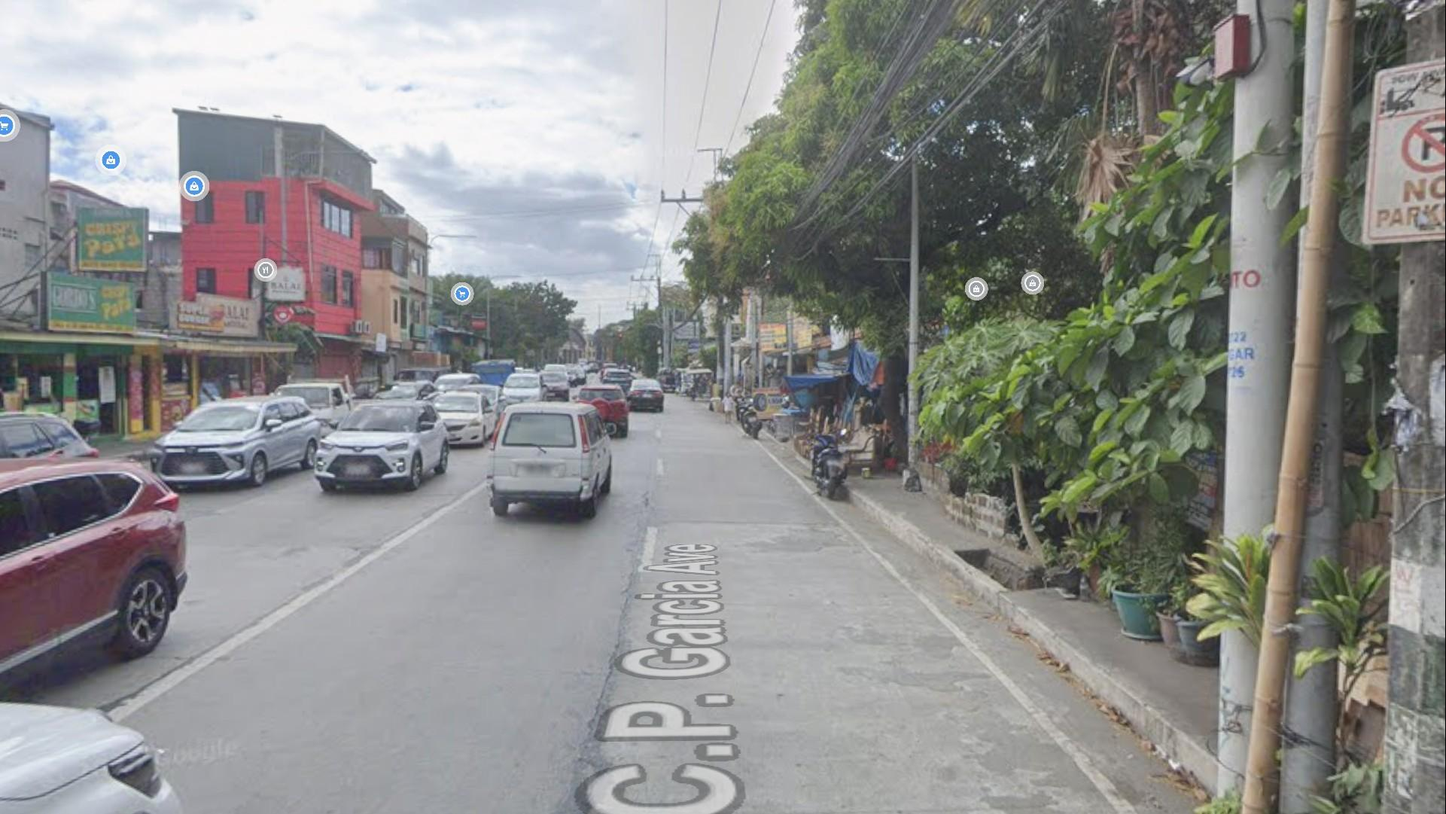pedestrian: (721, 389, 735, 425), (735, 388, 745, 423)
